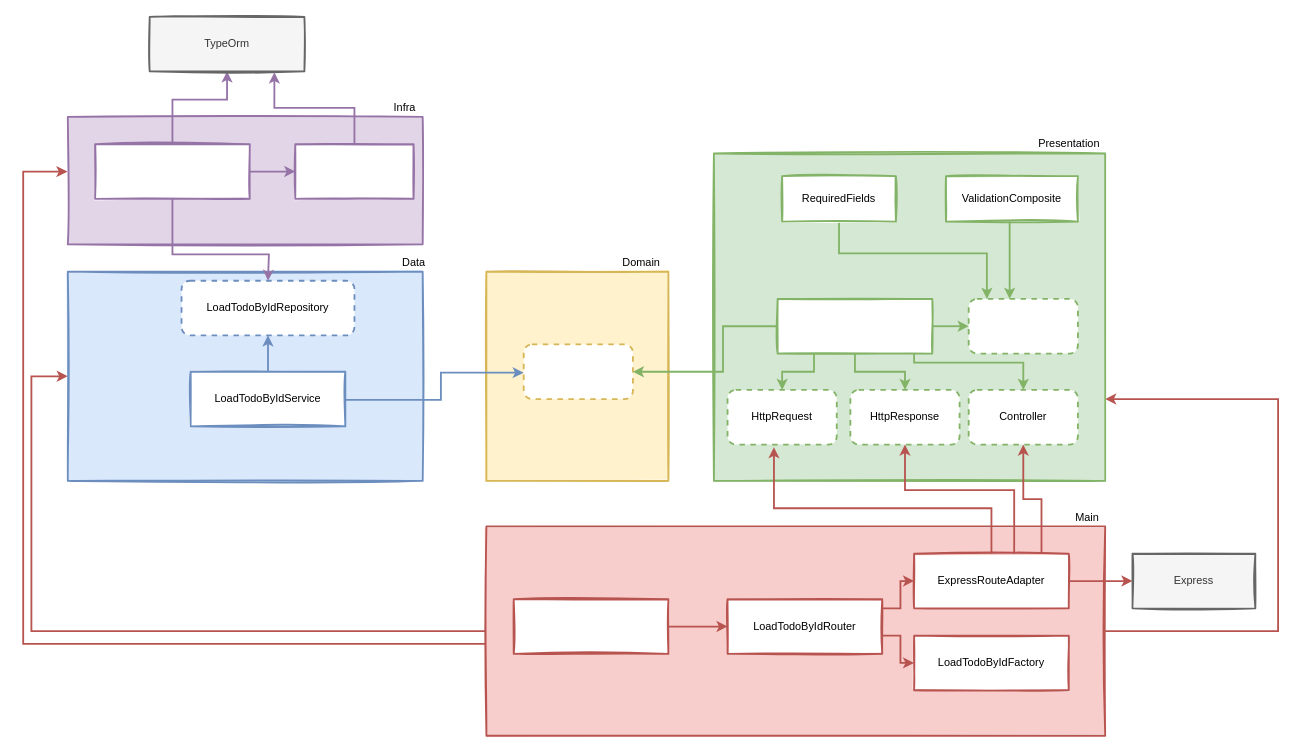
Some shapes in this 1301 by 752 pixel diagram are drawn without their labels. Here are the shapes that lost their labels. From the top down, the box of each, then its label:
(94, 143, 250, 199): TodoPgRepository
(294, 143, 414, 199): TodoEntity
(776, 298, 933, 354): LoadTodoByIdController
(967, 298, 1078, 354): Validation
(522, 343, 633, 399): LoadTodoById
(512, 598, 669, 654): App
